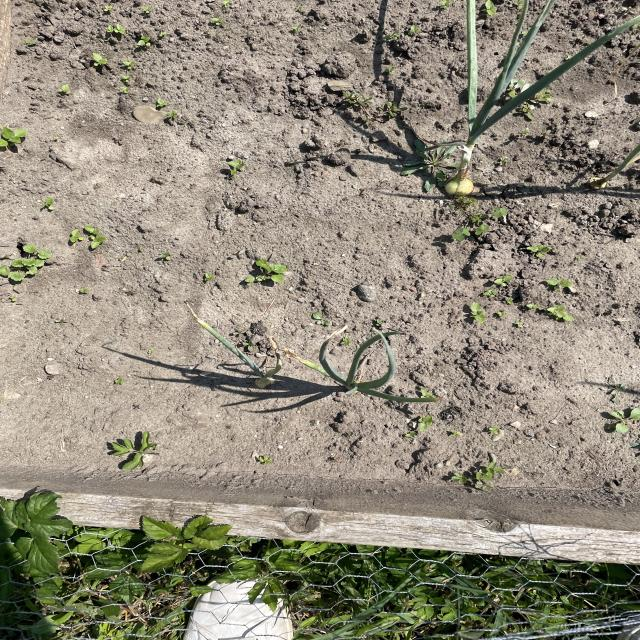Onion: (438, 0, 605, 198), (311, 334, 433, 403), (211, 331, 294, 394)
weed: (399, 129, 451, 189), (440, 204, 511, 245), (102, 428, 158, 474), (0, 241, 61, 282), (449, 459, 508, 496), (237, 256, 295, 288), (603, 398, 640, 443), (70, 224, 112, 252), (0, 121, 30, 154)
